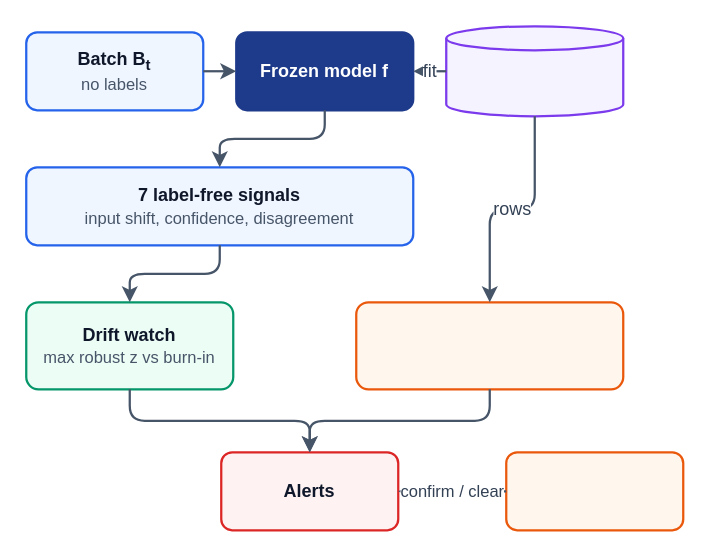
The diagram is 711 pixels wide and 558 high, and some of its shapes have lost their labels. The box of each missing label's shape, as (x1, y1, x2, y2) in pixels:
Delayed labels after L batches: (504, 450, 684, 531)
Harm tier importance-weighted accuracy of f on R, reweighted to B t: (354, 300, 624, 390)
Labeled reference R: (444, 24, 624, 117)
